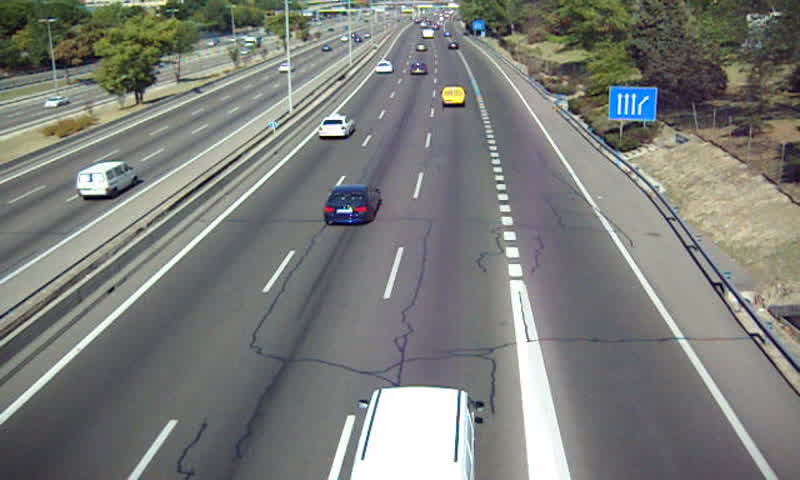car: (322, 184, 380, 226), (316, 115, 355, 138), (408, 61, 429, 77), (374, 61, 393, 75)
van: (441, 86, 466, 106)
